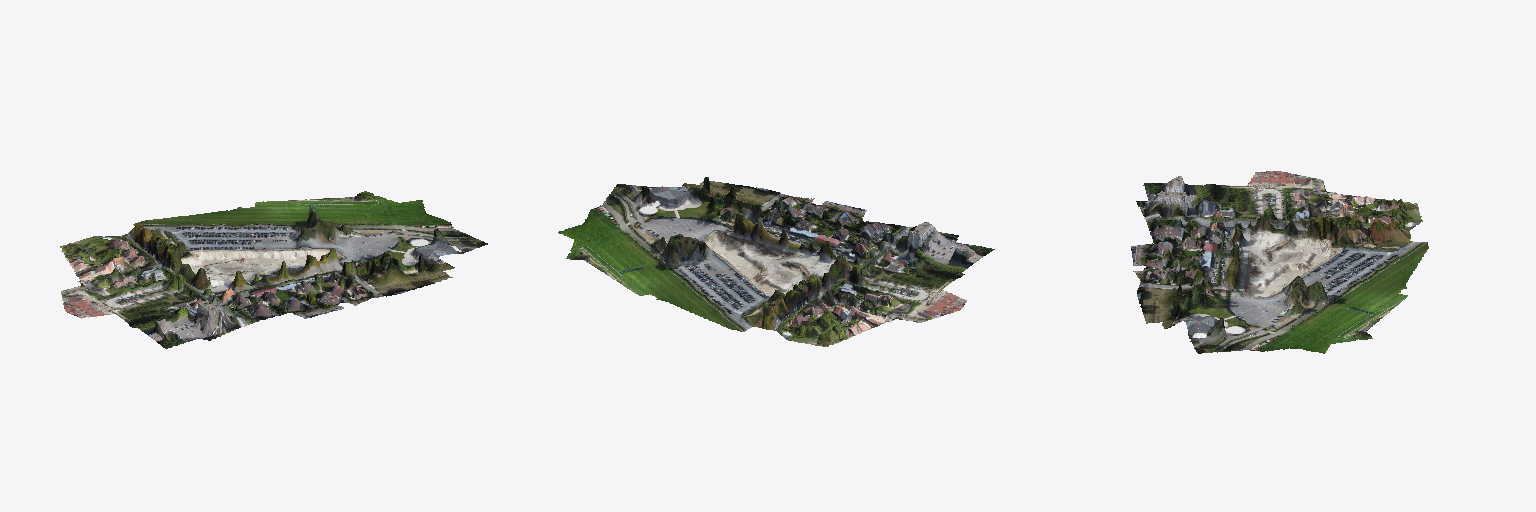
3 views of the same model, side by side, from view 1: azimuth 30°, elevation 25°; view 2: azimuth 150°, elevation 25°; view 3: azimuth 270°, elevation 25° (orthographic).
Visible parts, largest first — view 1: Construction; view 2: Construction; view 3: Construction.
Boxes of the visible parts, box(x1,y1,x2,y2) form: Construction: box(60, 191, 487, 348); Construction: box(558, 177, 994, 346); Construction: box(1131, 171, 1428, 353).
Size of the model in its own units: 1.24 by 0.0958 by 0.8394.
Materials: 1 (1 with a texture image).